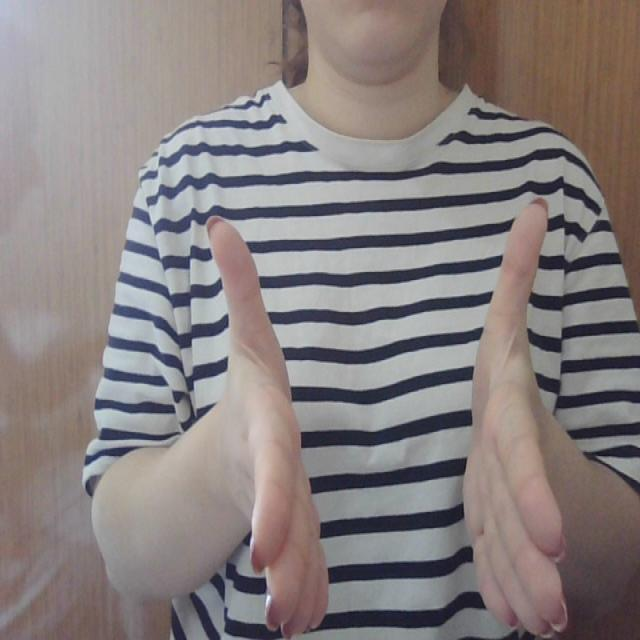Nasil: (206, 194, 596, 640)
